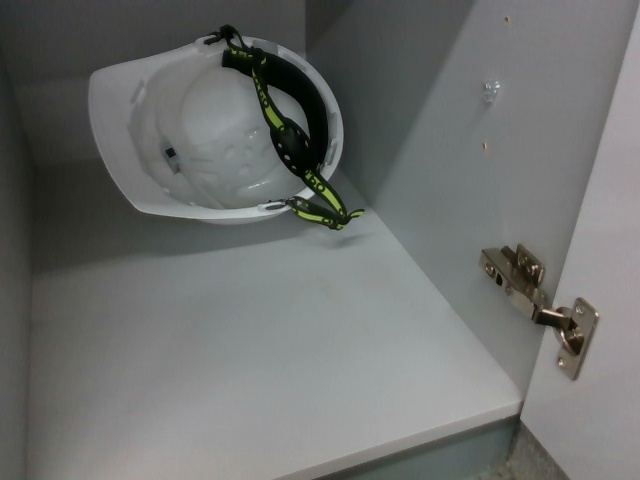helmet: (82, 27, 350, 237)
